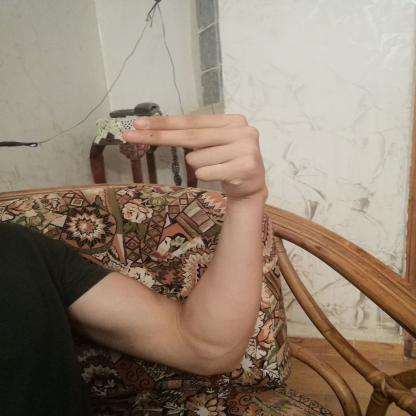AYN: (108, 99, 284, 206)
